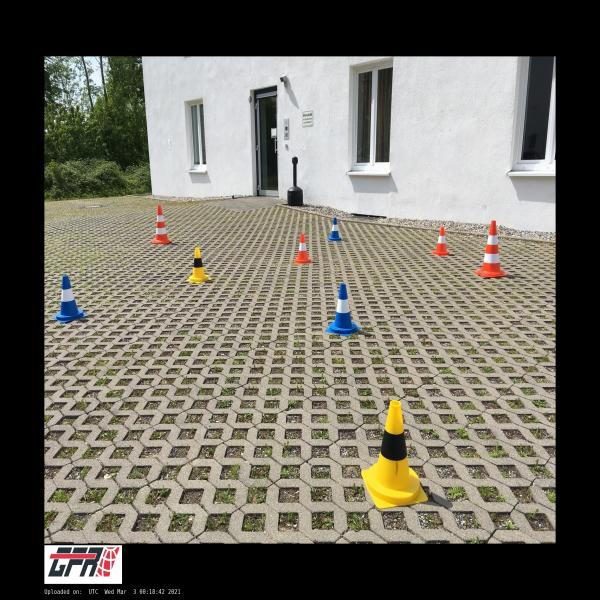blue_cone: (325, 284, 360, 337), (52, 275, 88, 323), (327, 218, 343, 241)
large_orange_cone: (474, 220, 508, 277), (151, 206, 172, 244)
orange_cone: (431, 228, 450, 256), (294, 234, 312, 263)
yellow_cone: (361, 400, 428, 508), (186, 248, 211, 284)
